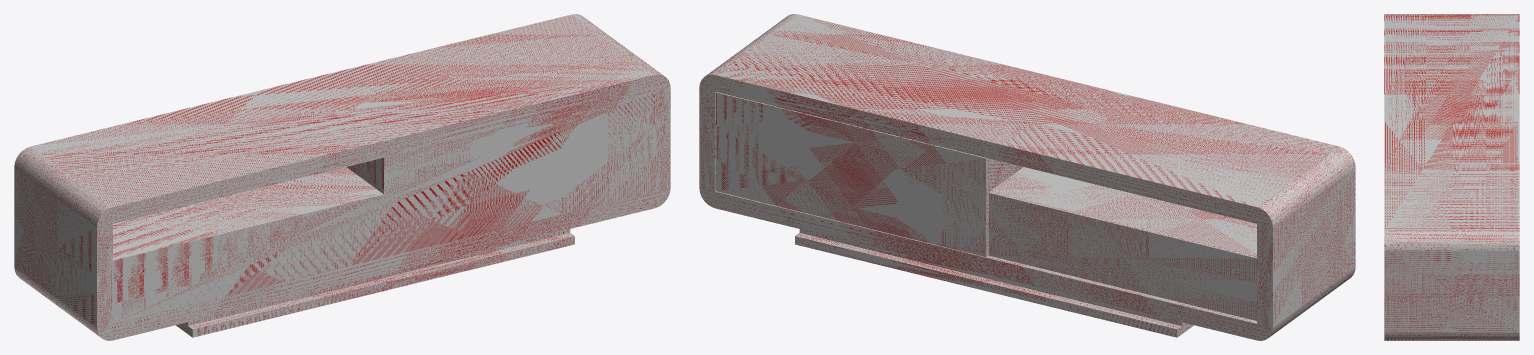
3 views of the same model, side by side, from view 1: azimuth 30°, elevation 25°; view 2: azimuth 150°, elevation 25°; view 3: azimuth 270°, elevation 25° (orthographic). The views are drawn at different scales.
Parts seen in each view (by area): view 1: mesh3_mesh3-geometry, mesh1_mesh1-geometry; view 2: mesh3_mesh3-geometry, mesh2_mesh2-geometry, mesh1_mesh1-geometry; view 3: mesh3_mesh3-geometry.
Part boxes in pixels (x1,y1,x2,y2): mesh3_mesh3-geometry: [14, 14, 670, 340]; mesh1_mesh1-geometry: [176, 229, 574, 337]; mesh3_mesh3-geometry: [699, 14, 1355, 340]; mesh2_mesh2-geometry: [989, 191, 1256, 320]; mesh1_mesh1-geometry: [795, 229, 1193, 337]; mesh3_mesh3-geometry: [1384, 14, 1519, 340].
Size of the model in its own units: 0.9428 by 0.2357 by 0.2357.
